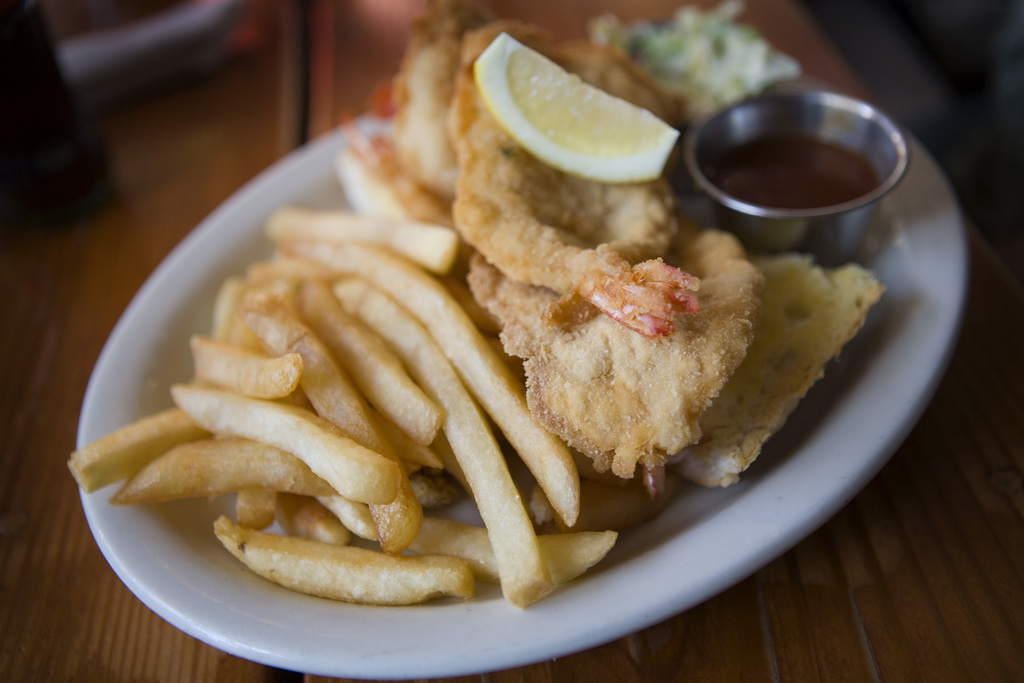French fries: (103, 192, 633, 629)
